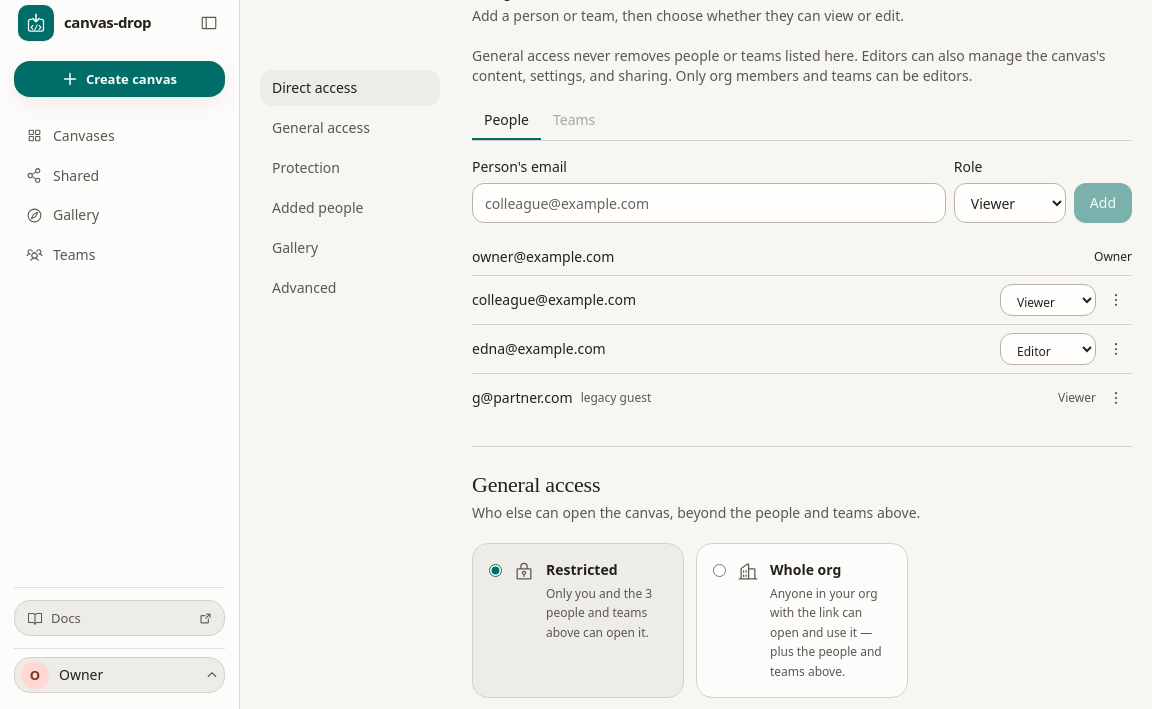
share route — roles and ownership (editor-roles plan U6) › KTD11 / AE19: removing an editor offers to regenerate the deploy key; declining removes only the grant, confirming mints and reveals a new key
(page scrolled)
Click the button named "Actions for edna@example.com" at (1116, 349), box [1100,333,1132,365]
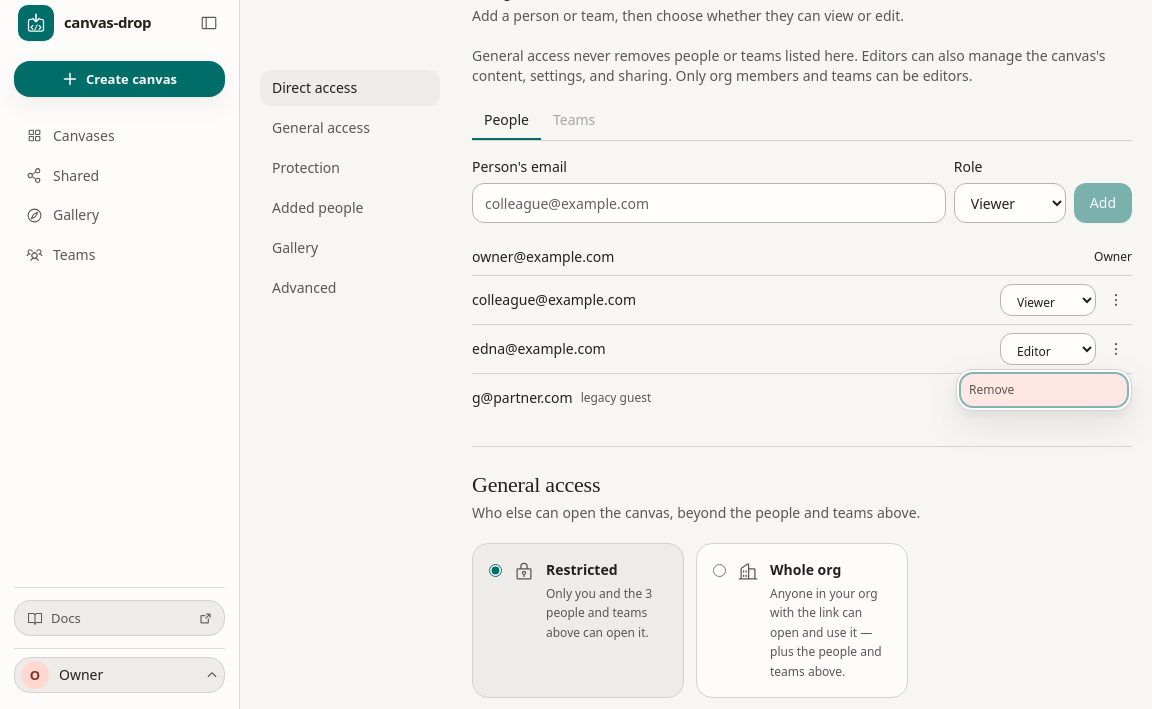
Click the menu item "Remove" at (1044, 390), box [961,374,1127,406]
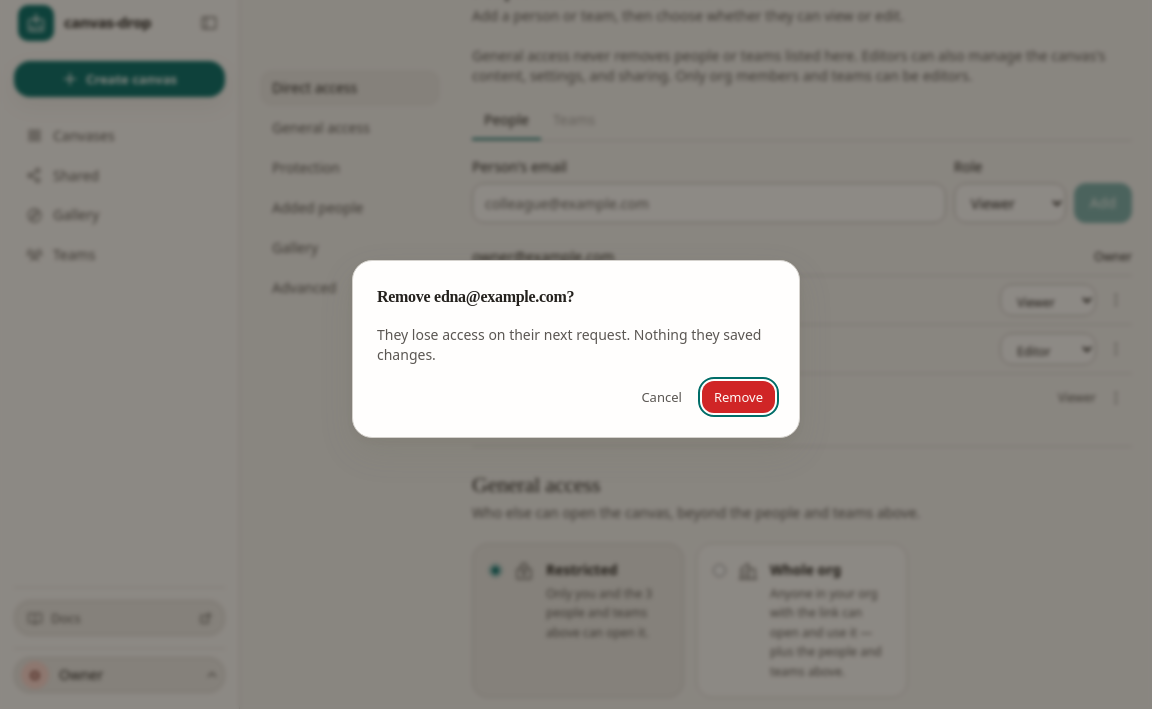
Click the button "Remove" at (738, 397), box [702,381,775,413]
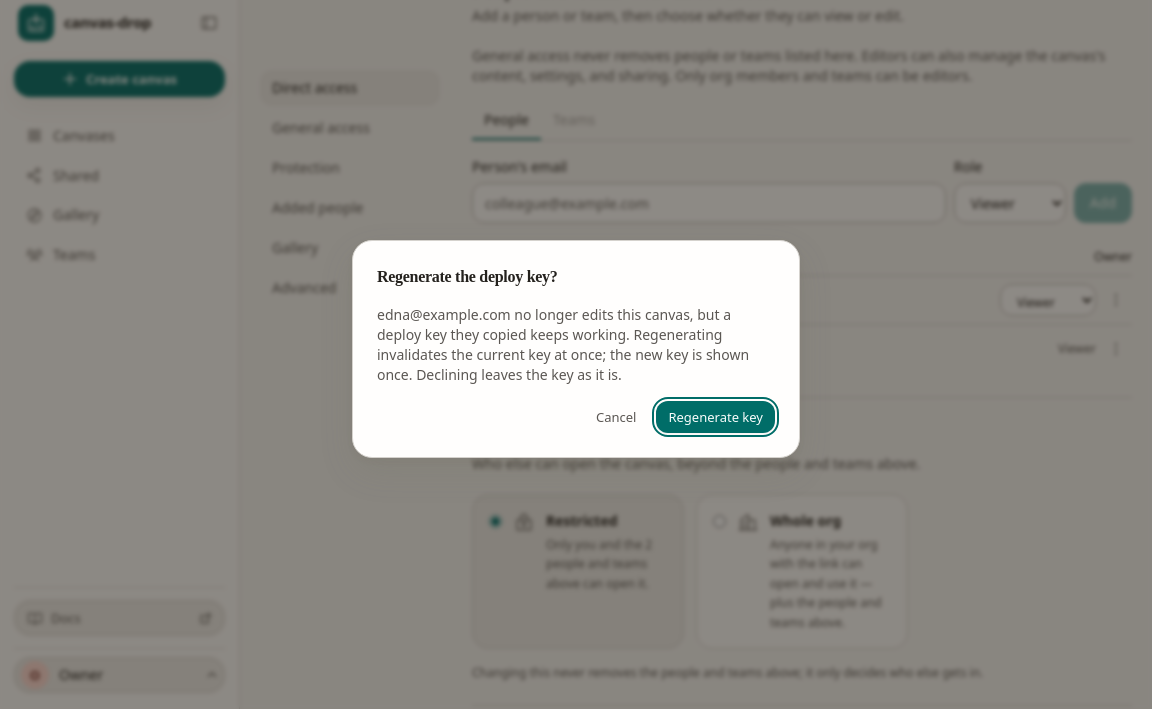
Result: the dialog "Regenerate the deploy key" shows "no longer edits this canvas" at [377,305,749,384]
// Decline: nothing else happens.
Click the button "Cancel" at (616, 417), box [584,401,648,433]
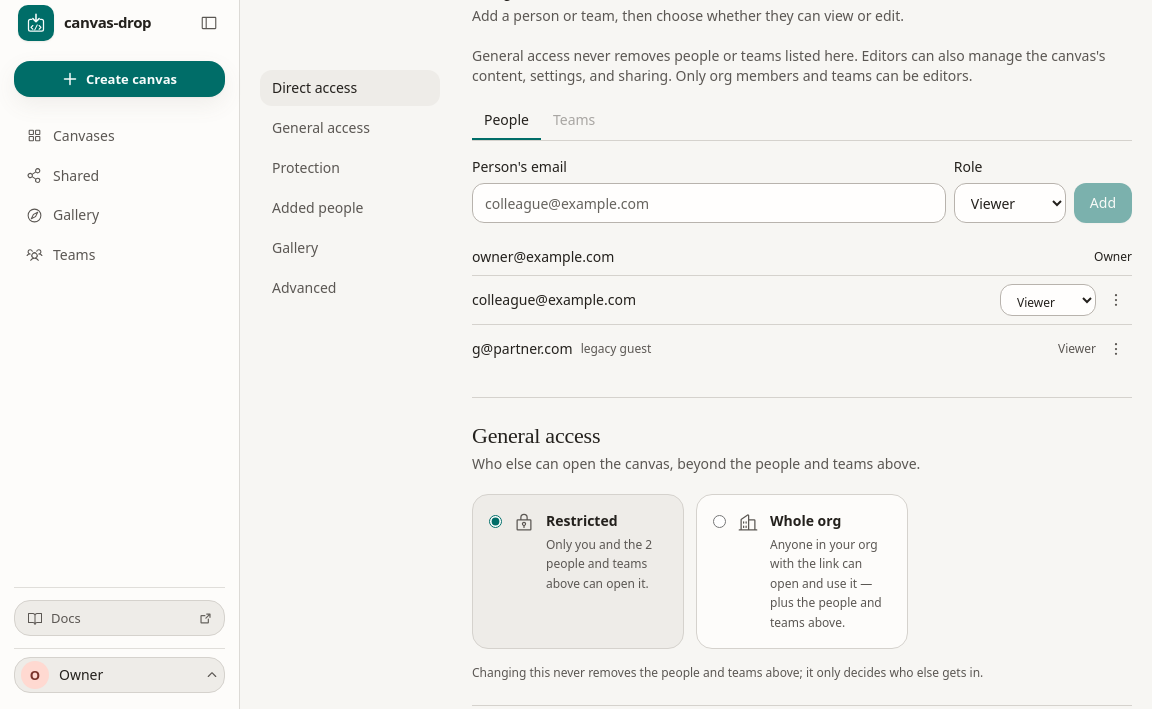
Result: the heading "Regenerate the deploy key" is gone
